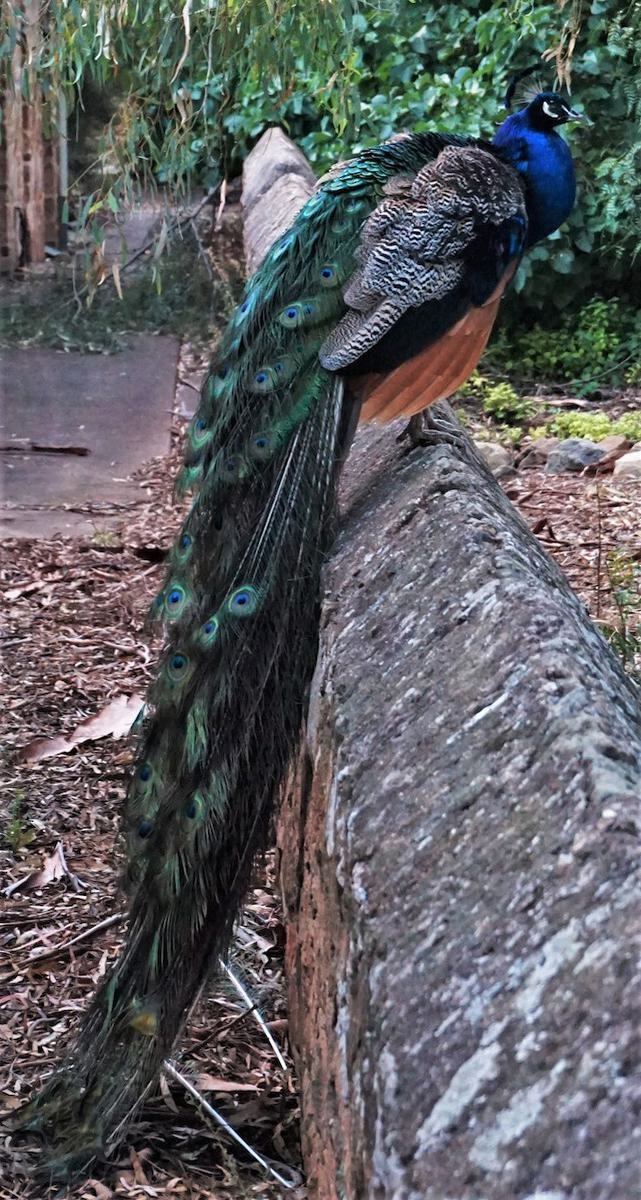peacock: (11, 70, 612, 1146)
